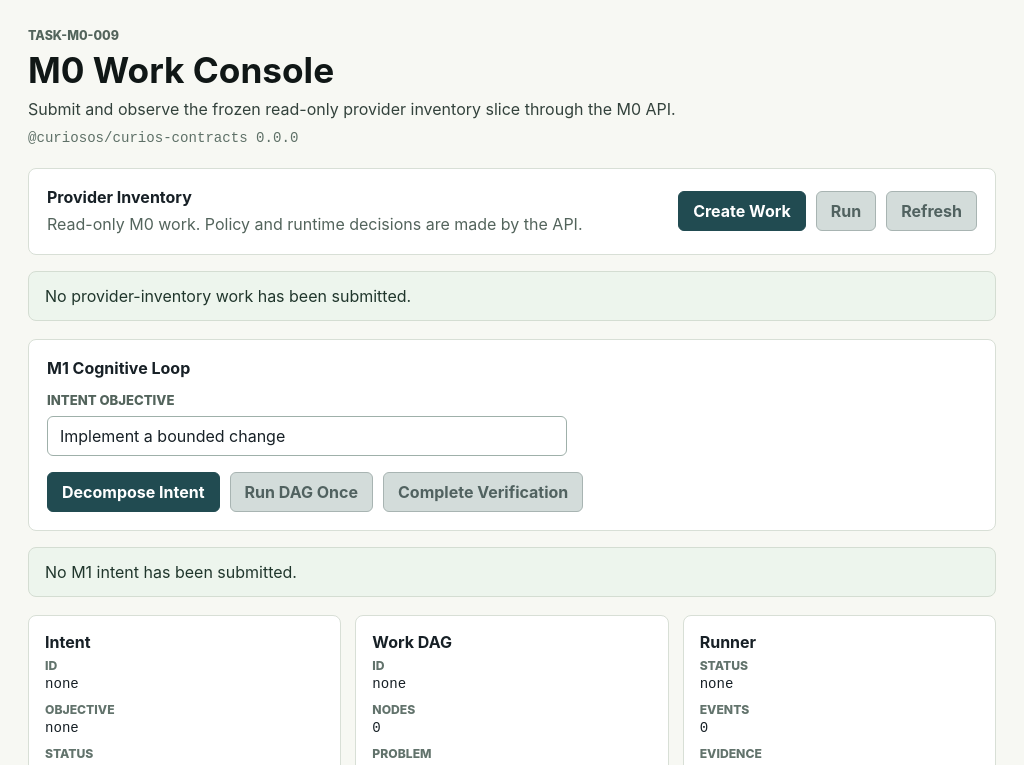
Scenario: TASK-M0-009 web work console › renders bounded provider failures without native details
The image size is (1024, 765).
Click the button "Create Work" at (742, 211), box [678,191,806,231]
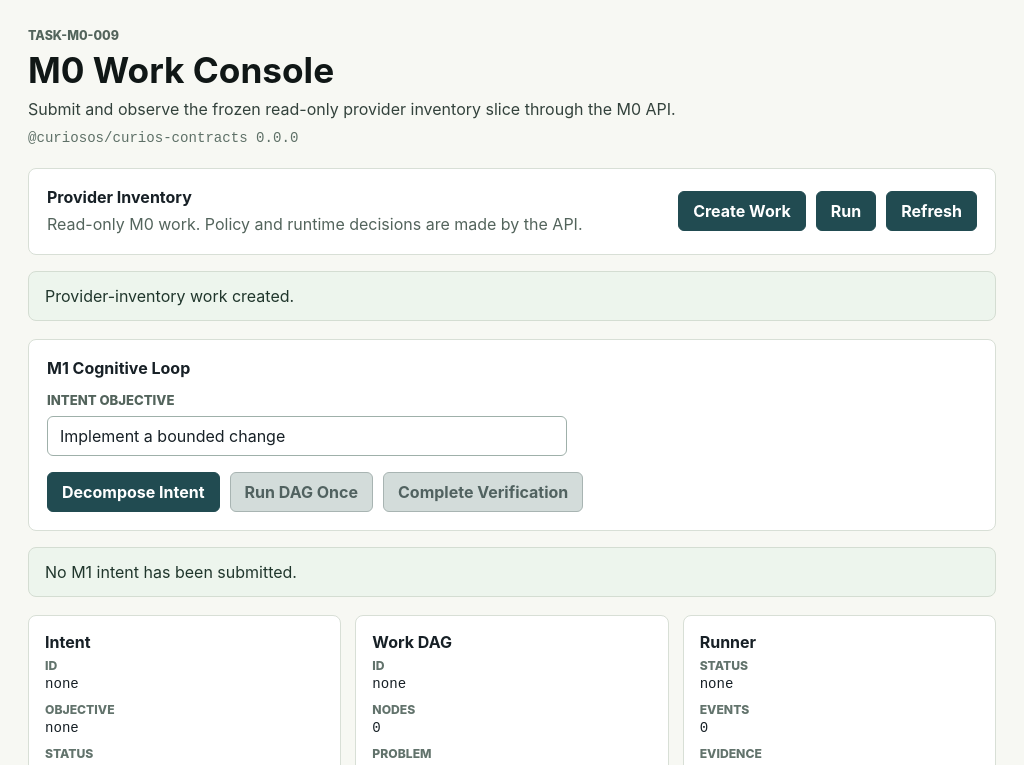
Click the button "Run" at (846, 211), box [816,191,876,231]
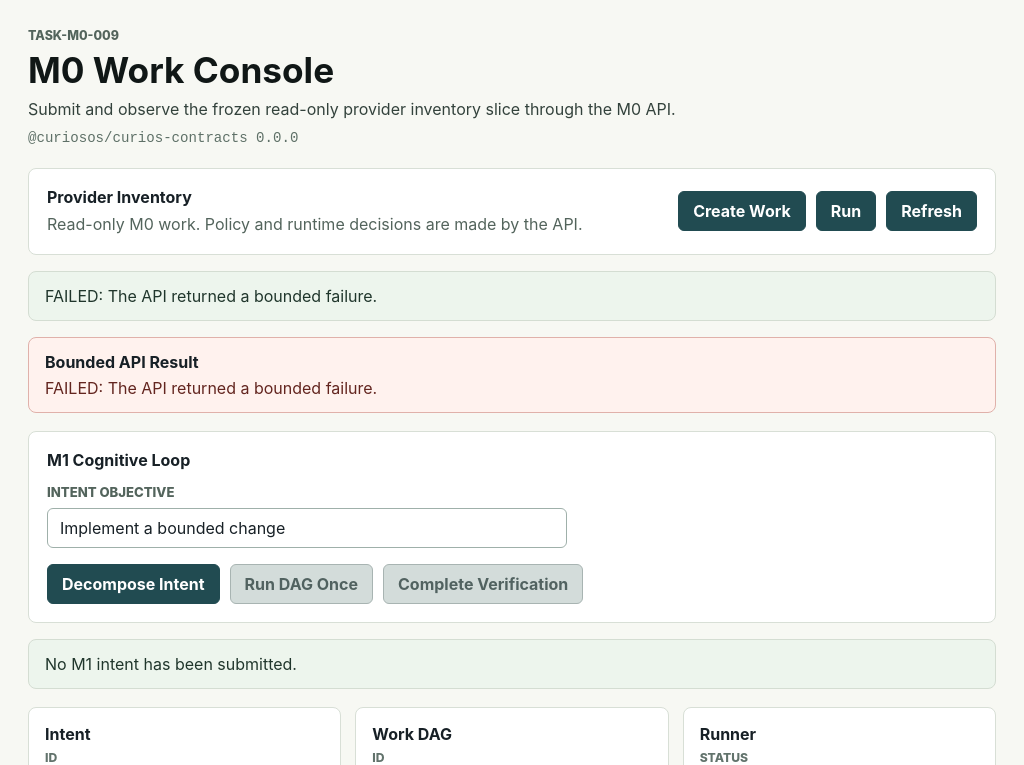
Now the text "FAILED" is shown, box [45,286,377,306]
